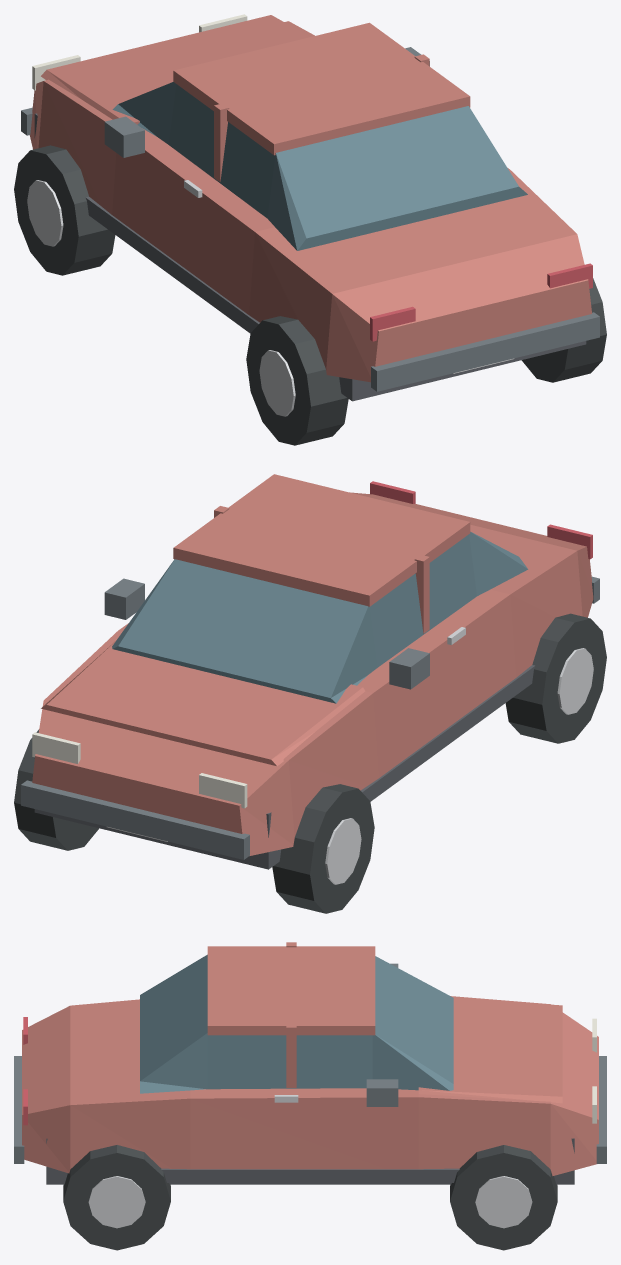
Rendered from celta.glb.
The picture shows the model from 3 angles, top to bottom: view 1: azimuth 30°, elevation 25°; view 2: azimuth 150°, elevation 25°; view 3: azimuth 270°, elevation 25°; orthographic projection. The views are drawn at different scales.
Visible parts, largest first — view 1: body_0001, cab_glass_0022, roof_0023, hood_0002, wheel_tire_0006, wheel_tire_0004, bumper_0027, lower_sill_0012, wheel_tire_0015, wheel_rim_0005, wheel_rim_0007, chassis_0000 (+4 smaller); view 2: body_0001, cab_glass_0022, roof_0023, hood_0002, wheel_tire_0004, wheel_tire_0006, bumper_0026, lower_sill_0012, wheel_tire_0013, wheel_rim_0005, wheel_rim_0007, chassis_0000 (+7 smaller); view 3: body_0001, cab_glass_0022, roof_0023, hood_0002, wheel_tire_0013, wheel_tire_0015, lower_sill_0021, wheel_rim_0014, wheel_rim_0016, chassis_0000, mirror_0019, bumper_0026 (+2 smaller).
Boxes of the visible parts, x1,y1,x2,y2 form: body_0001: (29,21,591,382); cab_glass_0022: (112,82,527,250); roof_0023: (173,22,470,155); hood_0002: (41,15,309,124); wheel_tire_0006: (246,316,348,445); wheel_tire_0004: (14,145,115,275); bumper_0027: (371,312,599,391); lower_sill_0012: (85,196,259,333); wheel_tire_0015: (521,278,606,382); wheel_rim_0005: (27,180,63,246); wheel_rim_0007: (259,350,295,416); chassis_0000: (34,113,586,401); body_0001: (32,492,593,855); cab_glass_0022: (112,531,528,703); roof_0023: (173,474,470,606); hood_0002: (41,641,365,765); wheel_tire_0004: (272,784,374,913); wheel_tire_0006: (505,613,606,743); bumper_0026: (21,780,249,859); lower_sill_0012: (360,665,534,801); wheel_tire_0013: (14,729,98,850); wheel_rim_0005: (325,818,361,884); wheel_rim_0007: (557,648,593,714); chassis_0000: (34,757,281,869); body_0001: (22,996,598,1175); cab_glass_0022: (140,954,453,1093); roof_0023: (207,946,375,1035); hood_0002: (418,997,562,1103); wheel_tire_0013: (450,1145,557,1250); wheel_tire_0015: (63,1145,170,1250); lower_sill_0021: (161,1168,459,1182); wheel_rim_0014: (475,1176,532,1228); wheel_rim_0016: (88,1176,145,1228); chassis_0000: (46,1138,574,1184); mirror_0019: (366,1079,398,1106); bumper_0026: (596,1056,606,1163).
Size of the model in its own units: 1.86 by 1.43 by 3.74.
